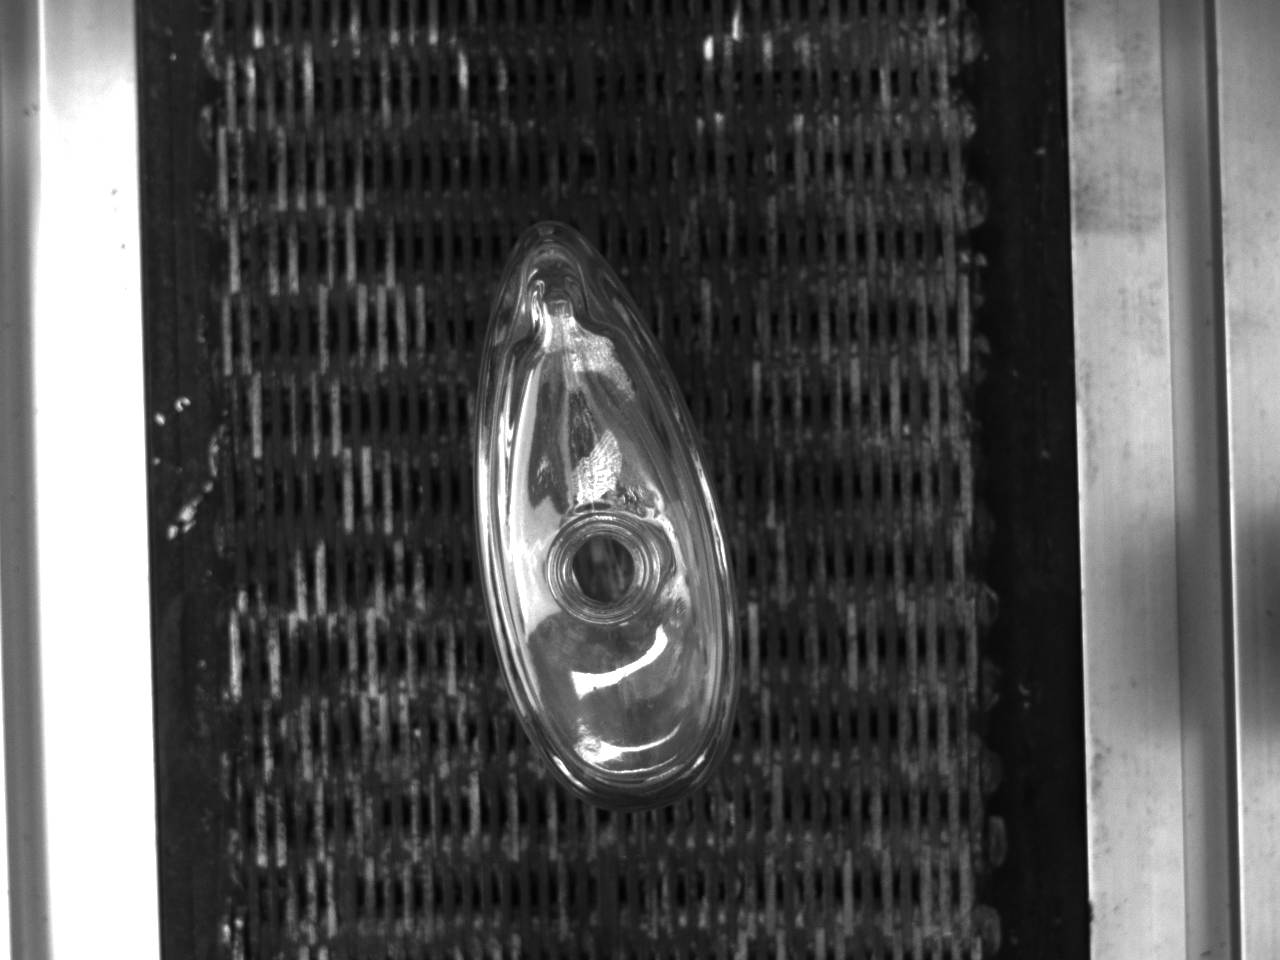bottleneck: (546, 512, 662, 627)
